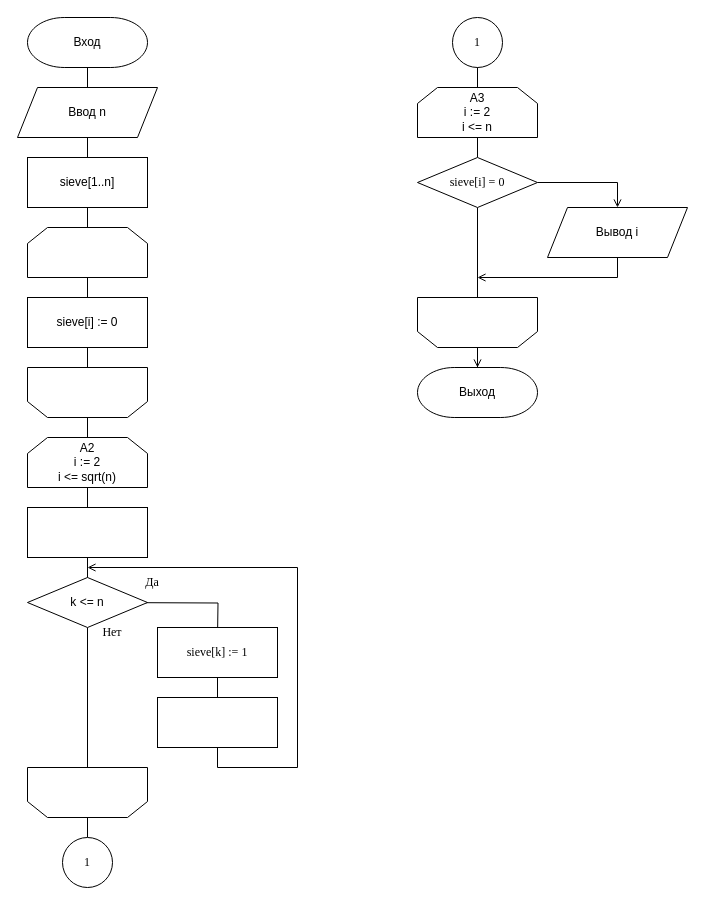
The diagram is 705 pixels wide and 905 high, and some of its shapes have lost their labels. Each missing label, with the centre of its shape:
"A1" belongs at point 87,392.
"A2" belongs at point 87,792.
"A3" belongs at point 477,322.
"k := 2 * i" belongs at point 87,532.
"k := k + i" belongs at point 217,722.
"А1 i := 1 i <= n" belongs at point 87,252.
